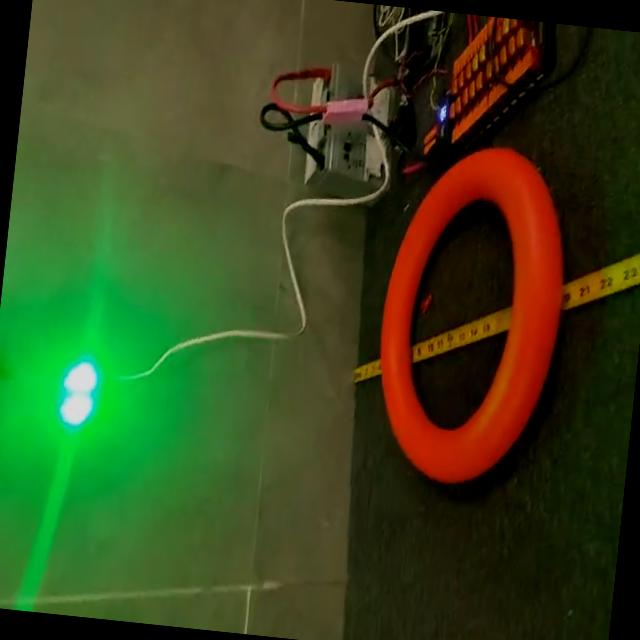note: (363, 138, 580, 496)
